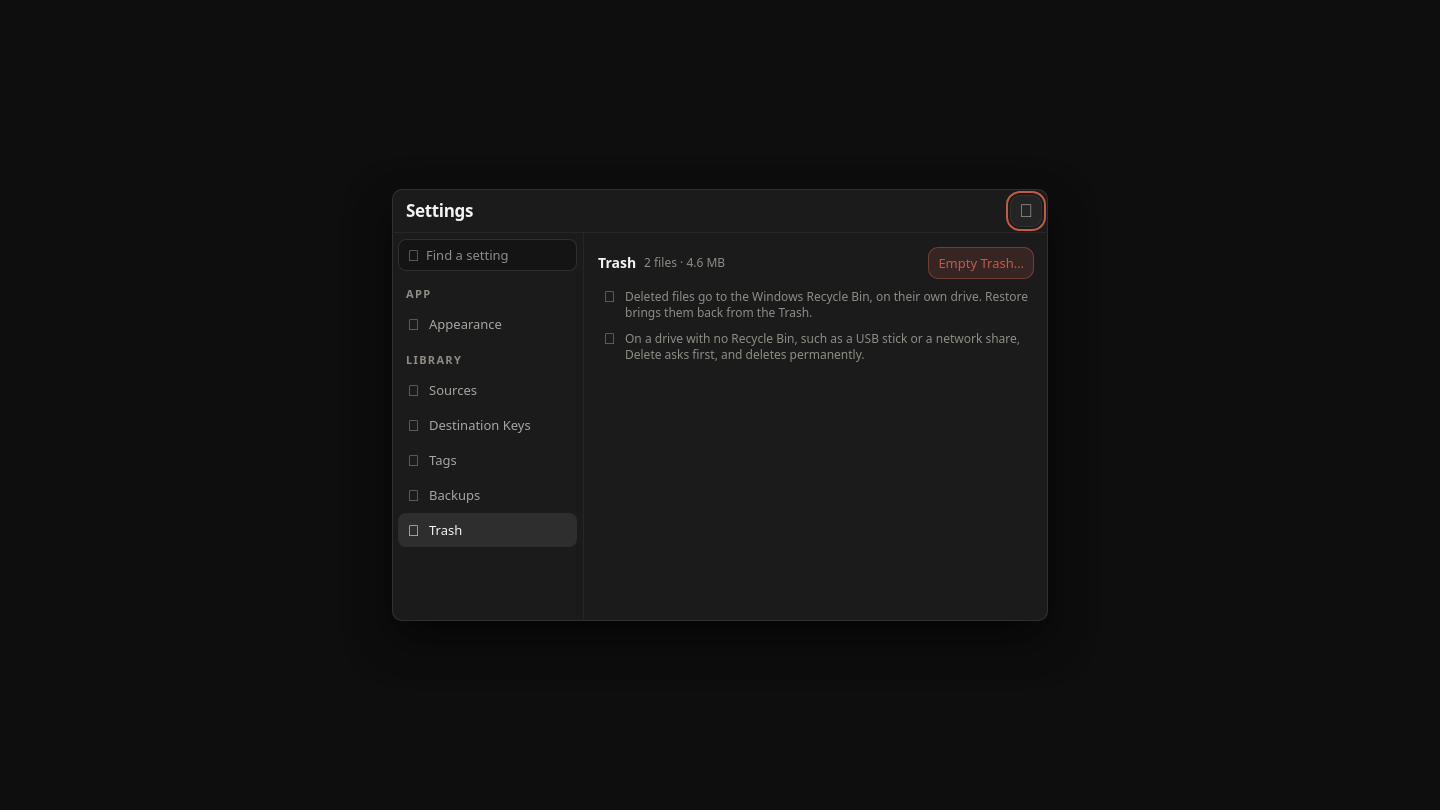
Test: Empty Trash… is disabled while its question is open, so one act has one way in
What coordinates should you click on to do the following:
click the button "Empty Trash…"
I would click on:
 (981, 263)
Its box is [928,247,1034,279].
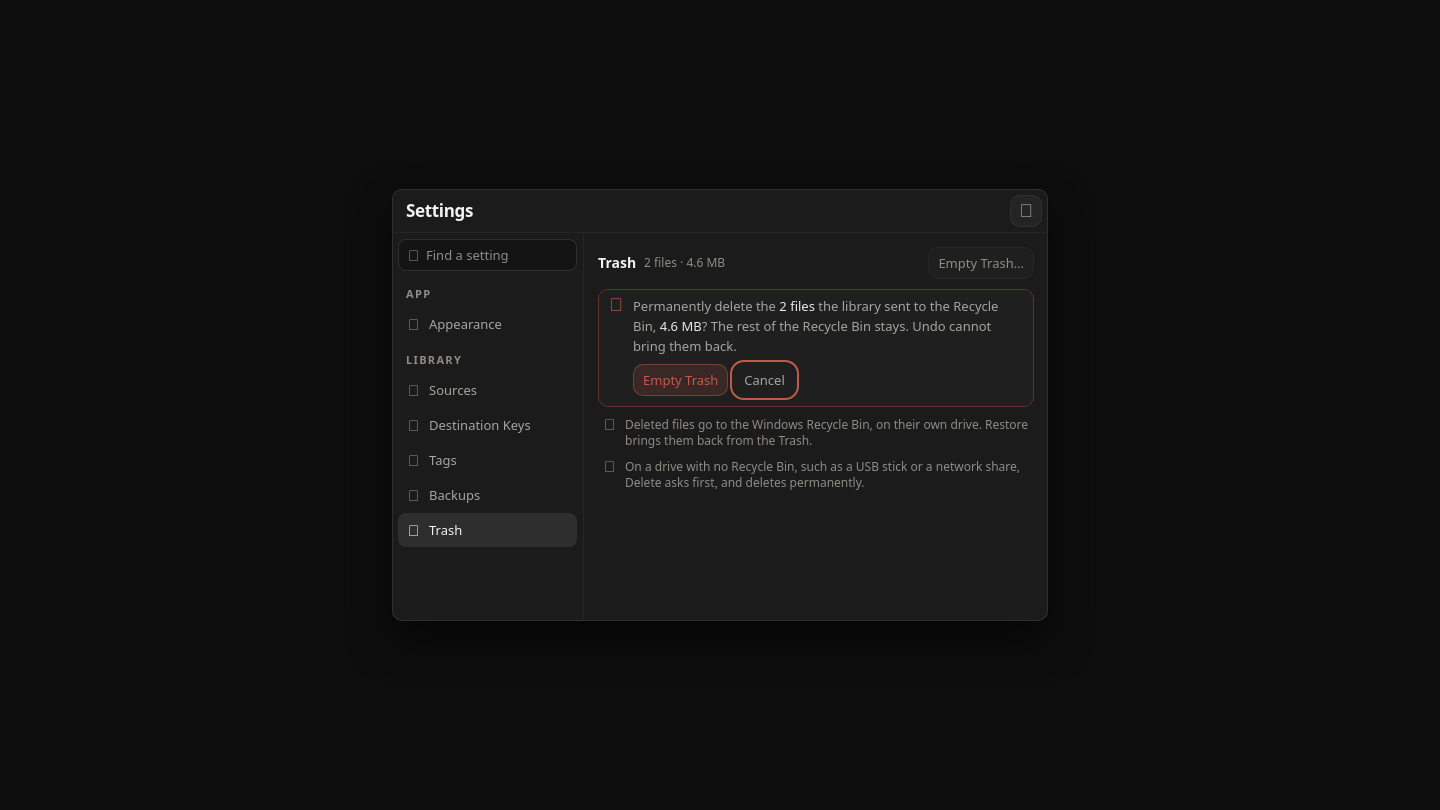
Now the button "Empty Trash…" is disabled, box [928,247,1034,279]
What coordinates should you click on to do the following:
click the button "Cancel"
I would click on:
 (765, 380)
Its box is [734,364,795,396].
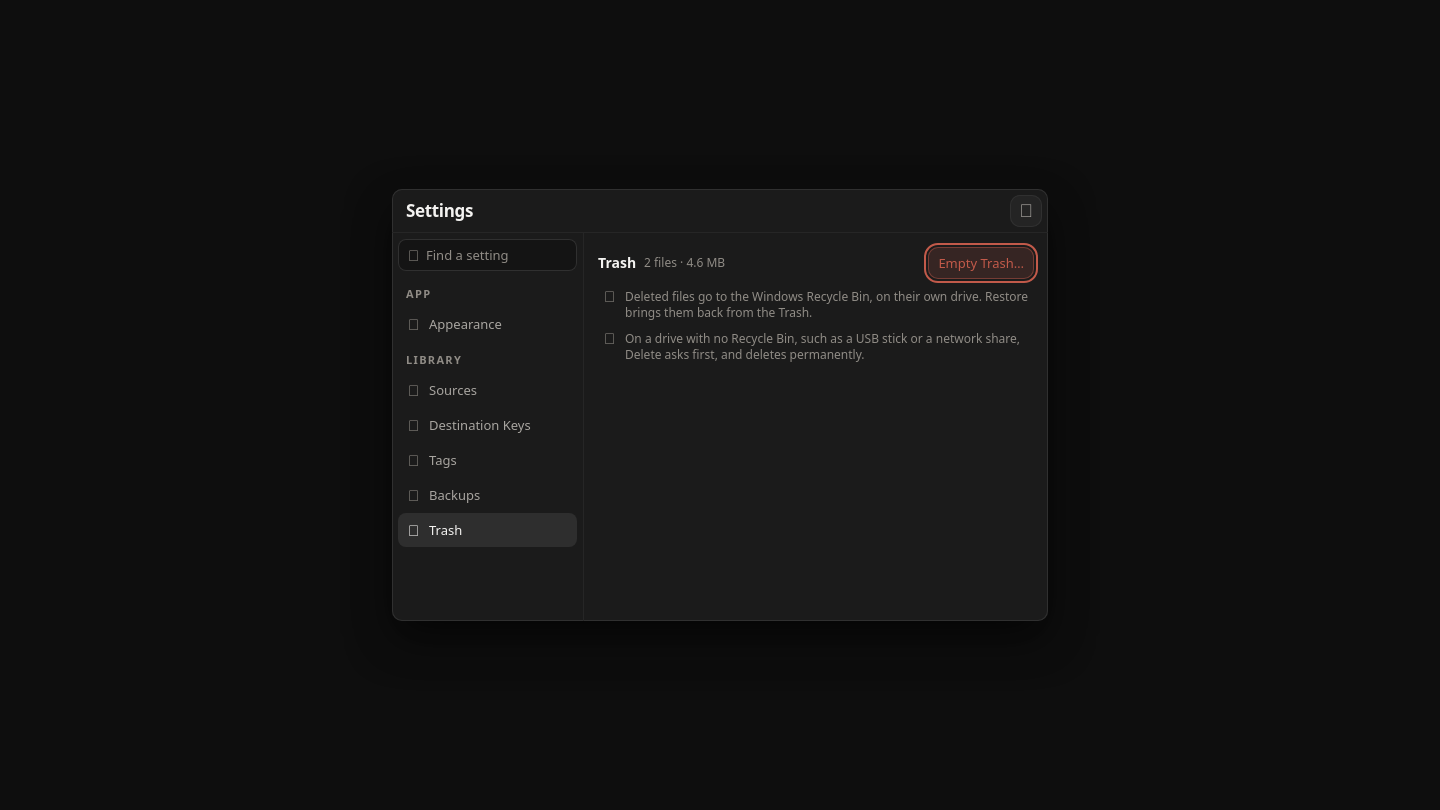
Now the button "Empty Trash…" is enabled, box [928,247,1034,279]
